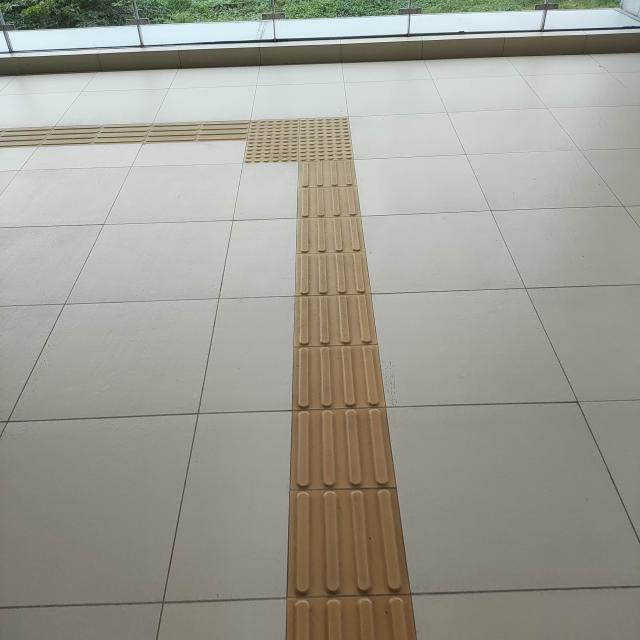kiri: (179, 90, 394, 196)
